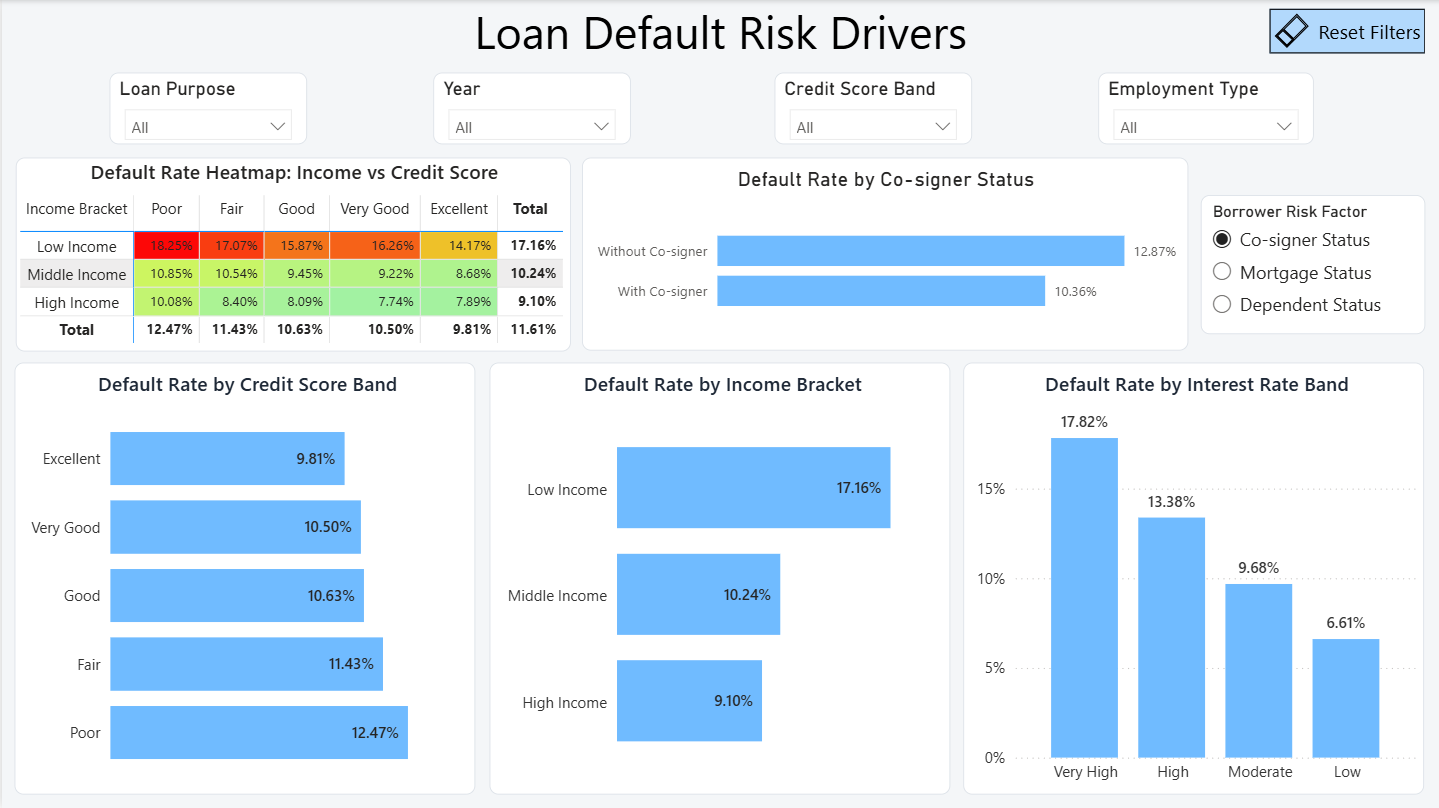

The dashboard page shown, as its layout file describes it:
{"tool":"powerbi","page":{"name":"Default Risk Drivers","canvas":[1280,720],"ordinal":1},"visuals":[{"type":"shape","title":"Loan Default Risk Drivers","box":[0,0,1280,55.5],"z":0},{"type":"clusteredBarChart","title":"Default Rate by Credit Score Band","fields":{"Category":["Loan_default.Credit Score Bins"],"Y":["_Measures.Default Rate %"]},"box":[10.9,323,410,385],"z":1000},{"type":"clusteredBarChart","title":"Default Rate by Income Bracket","fields":{"Category":["Loan_default.Income Bracket"],"Y":["_Measures.Default Rate %"]},"box":[434.3,323,410,385],"z":2000},{"type":"clusteredColumnChart","title":"Default Rate by Interest Rate Band","fields":{"Category":["Loan_default.Interest Rate Band"],"Y":["_Measures.Default Rate %"]},"box":[856.6,323.3,410,384.9],"z":3000},{"type":"pivotTable","title":"Default Rate Heatmap: Income vs Credit Score","fields":{"Rows":["Loan_default.Income Bracket"],"Columns":["Loan_default.Credit Score Bins"],"Values":["_Measures.Default Rate %"]},"box":[12.1,139.9,494.6,172.5],"z":4000},{"type":"slicer","fields":{"Values":["Borrower Risk Factor.Borrower Risk Factor"]},"box":[1067,174,200.3,124.3],"z":5000},{"type":"clusteredBarChart","fields":{"Category":["Loan_default.Co-signer Status"],"Y":["_Measures.Default Rate %"]},"box":[516,140,540,172],"z":6000},{"type":"slicer","title":"Year","fields":{"Values":["Date Table.Year"]},"box":[384,65,176,64],"z":7000},{"type":"slicer","title":"Employment Type","fields":{"Values":["Loan_default.EmploymentType"]},"box":[976,65,192,64],"z":8000},{"type":"slicer","title":"Loan Purpose","fields":{"Values":["Loan_default.LoanPurpose"]},"box":[96,65,176,64],"z":9000},{"type":"slicer","title":"Credit Score Band","fields":{"Values":["Loan_default.Credit Score Bins"]},"box":[688,65,176,64],"z":10000},{"type":"actionButton","box":[1129.2,7.2,138.7,39.8],"z":11000}]}

Visuals, with their boxes in screenshot pixels (x1, y1, x2, y2), scaled from the page's 1280x720 canvas onto the 1439x808 screenshot:
"Loan Default Risk Drivers" shape: x1=0, y1=0, x2=1438, y2=62
"Default Rate by Credit Score Band" clusteredBarChart: x1=12, y1=362, x2=473, y2=795
"Default Rate by Income Bracket" clusteredBarChart: x1=488, y1=362, x2=949, y2=795
"Default Rate by Interest Rate Band" clusteredColumnChart: x1=963, y1=363, x2=1424, y2=795
"Default Rate Heatmap: Income vs Credit Score" pivotTable: x1=14, y1=157, x2=570, y2=351
slicer - Borrower Risk Factor.Borrower Risk Factor: x1=1200, y1=195, x2=1425, y2=335
clusteredBarChart - Loan_default.Co-signer Status x _Measures.Default Rate %: x1=580, y1=157, x2=1187, y2=350
"Year" slicer: x1=432, y1=73, x2=630, y2=145
"Employment Type" slicer: x1=1097, y1=73, x2=1313, y2=145
"Loan Purpose" slicer: x1=108, y1=73, x2=306, y2=145
"Credit Score Band" slicer: x1=773, y1=73, x2=971, y2=145
actionButton: x1=1269, y1=8, x2=1425, y2=53
